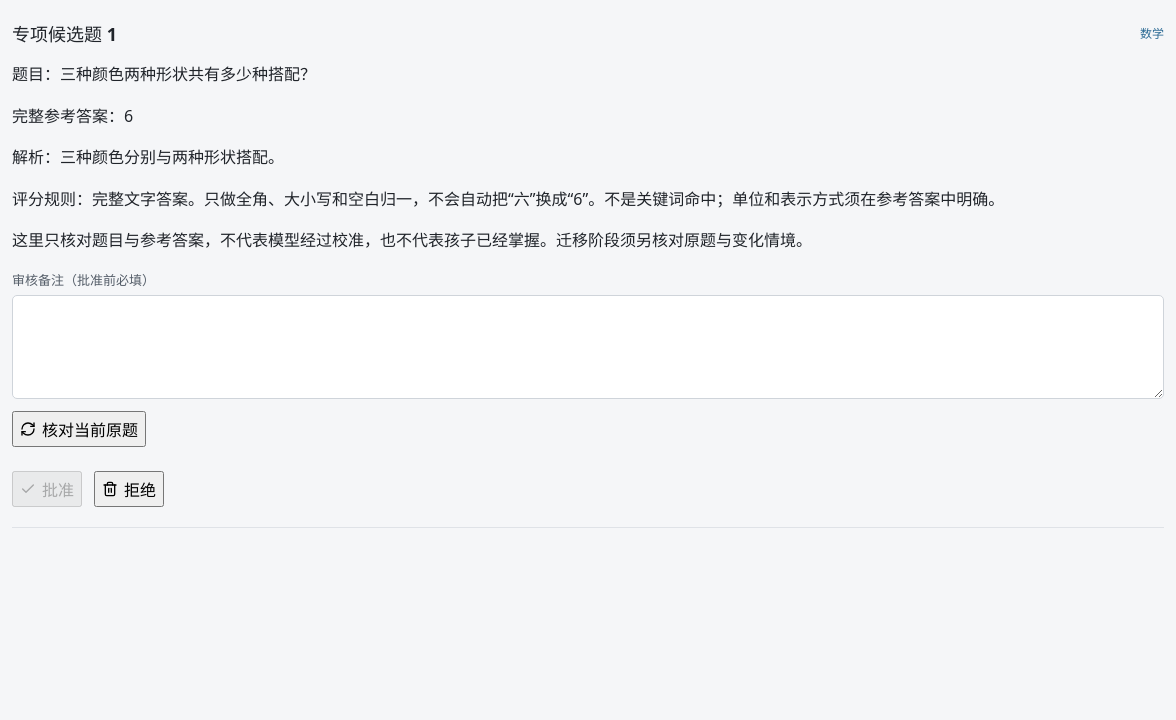
Test: never sends when local storage fails before dispatch (throw)
In the text box named "专项候选题1审核备注": point(588, 347) [12,295,1164,399], type "已独立核对完整参考答案和题意。"
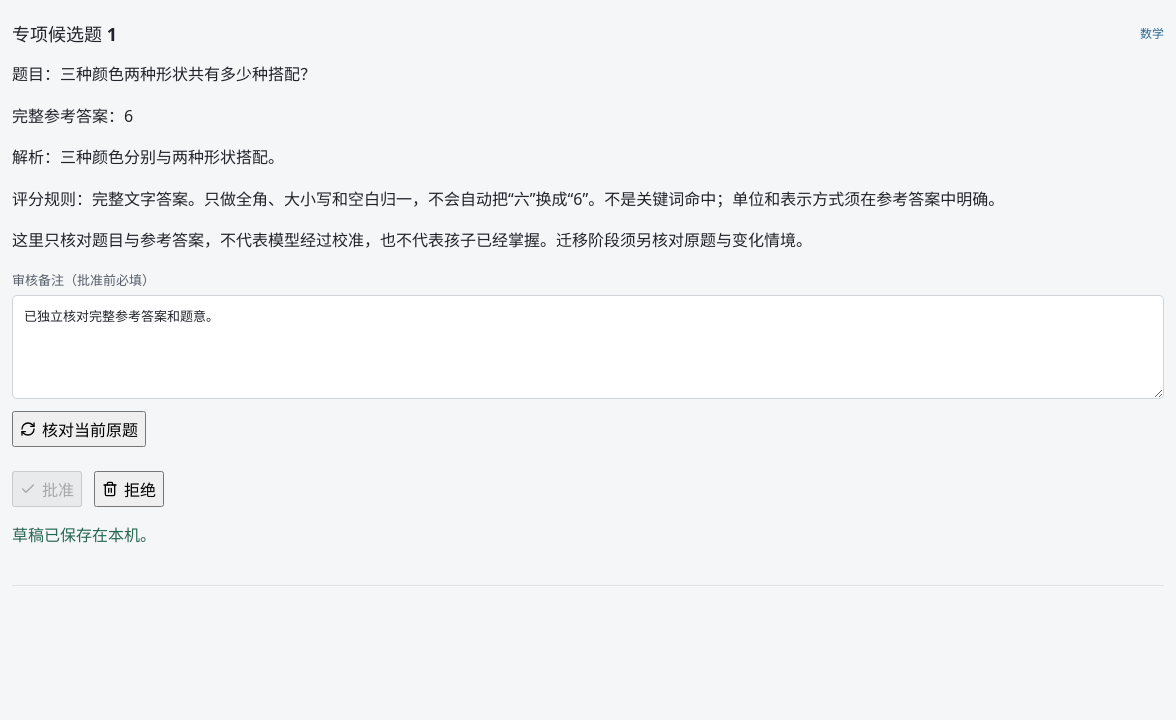
Click the button "核对当前原题": point(79, 429) [12,411,146,447]
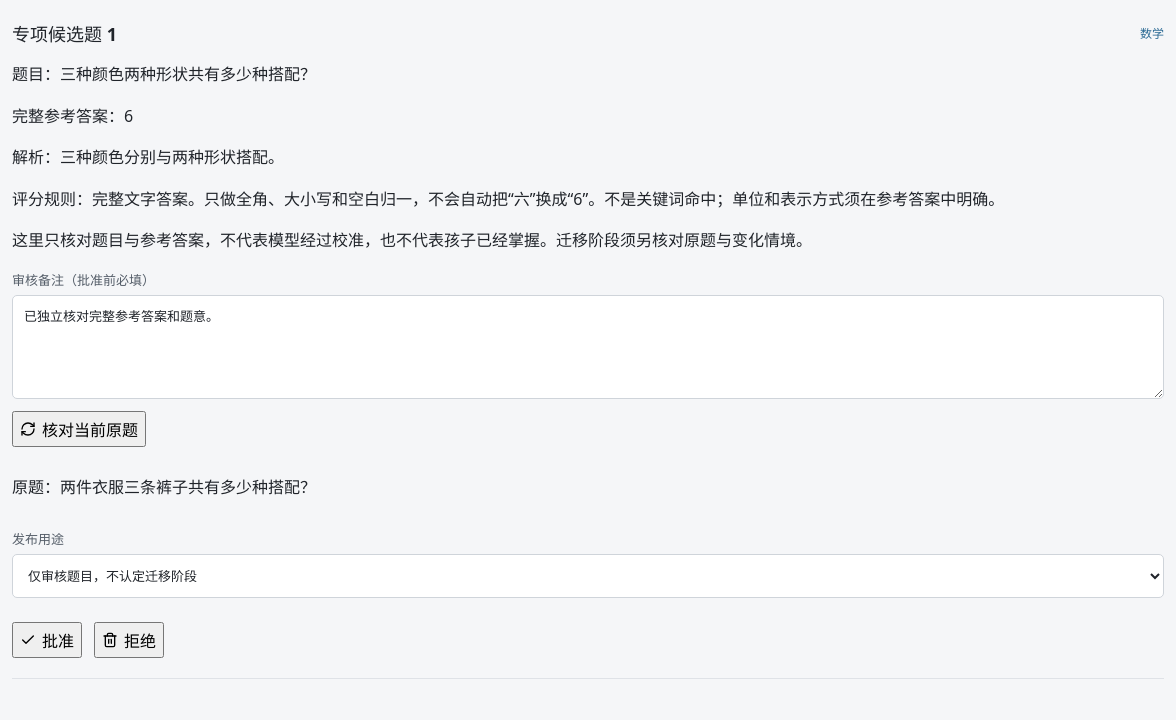
Check: the text "两件衣服三条裤子共有多少种搭配？" is shown, box [60,476,316,498]
Check: the button "批准" is enabled
Click the button "批准": point(47, 640) [12,622,82,658]
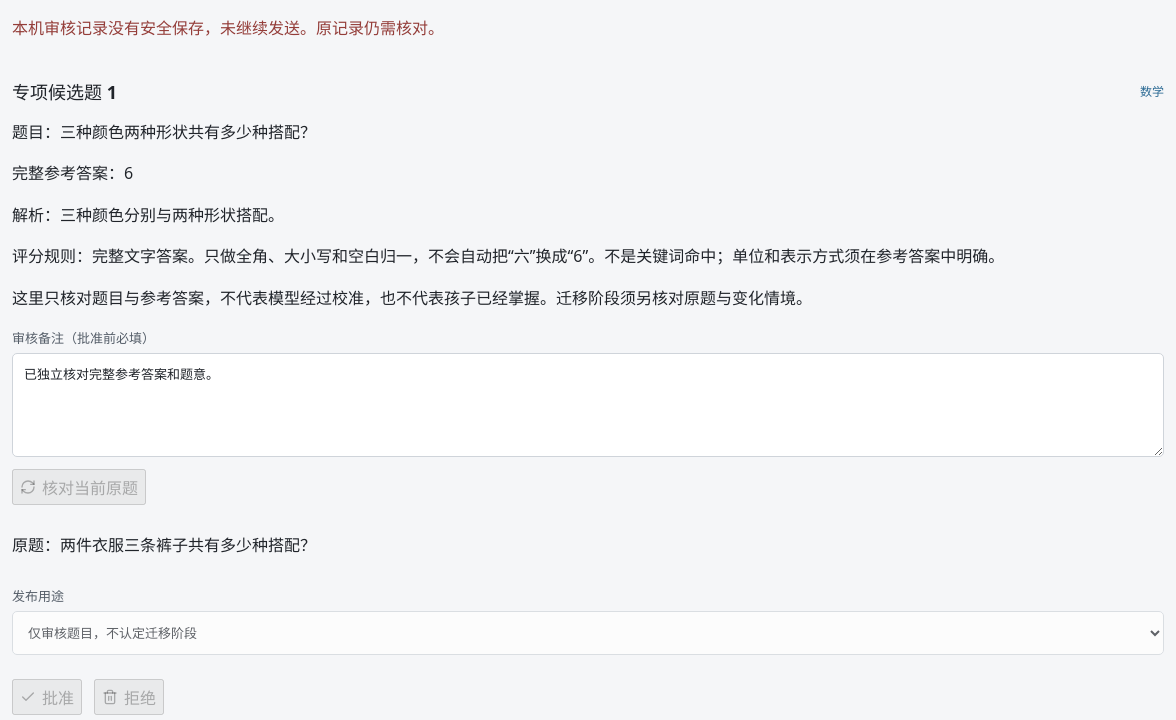
Check: the text "本机审核记录没有安全保存，未继续发送。原记录仍需核对。" is shown, box [12,17,444,39]
